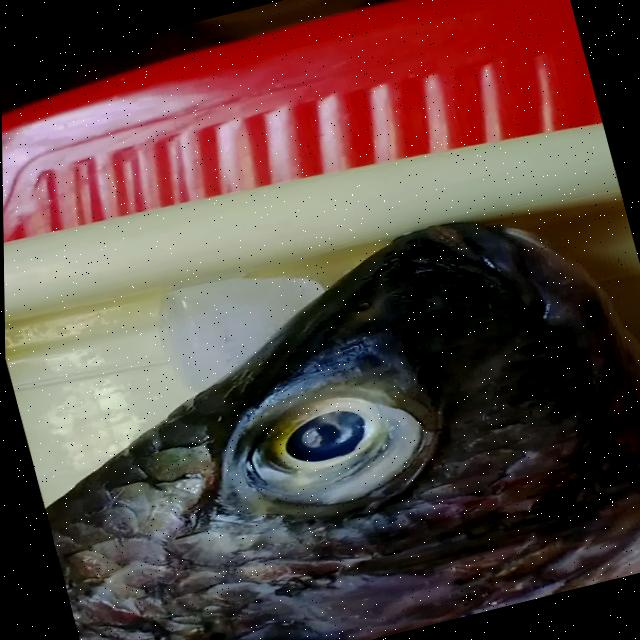Fresh: (176, 324, 475, 549)
